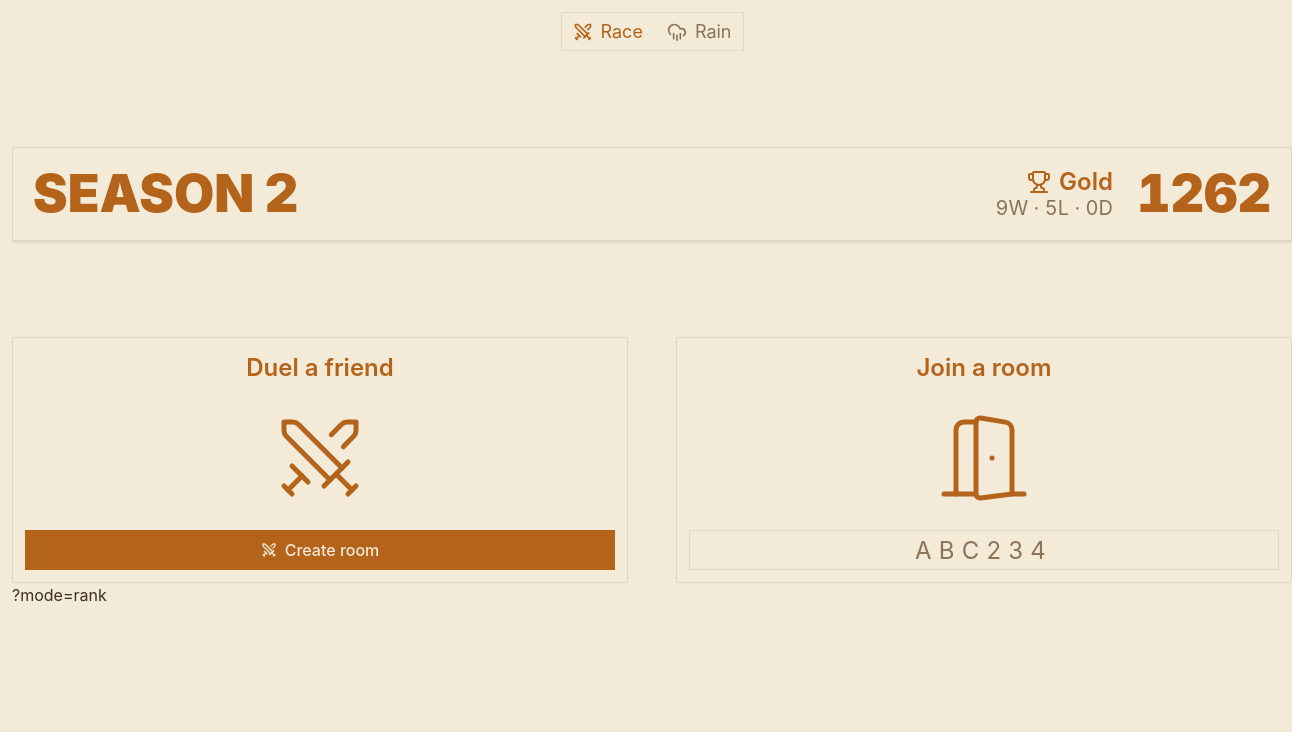
Test: RankMode (ranked duel, phase 4) › says how to join in a tooltip on the title of the join panel
Hover over the text "Join a room" at (984, 368), box [916,353,1052,382]
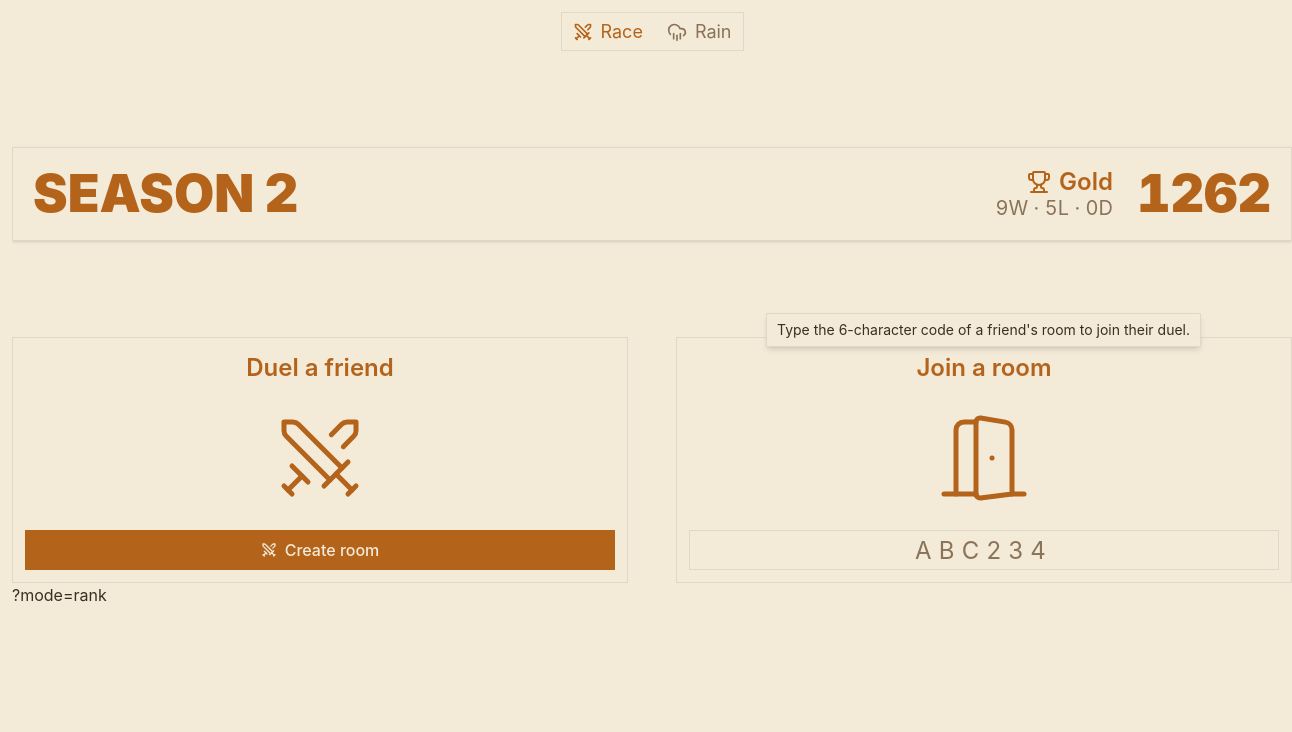
Result: the tooltip reads "Type the 6-character code of a friend's room to join their duel." at [777,321,1190,338]
